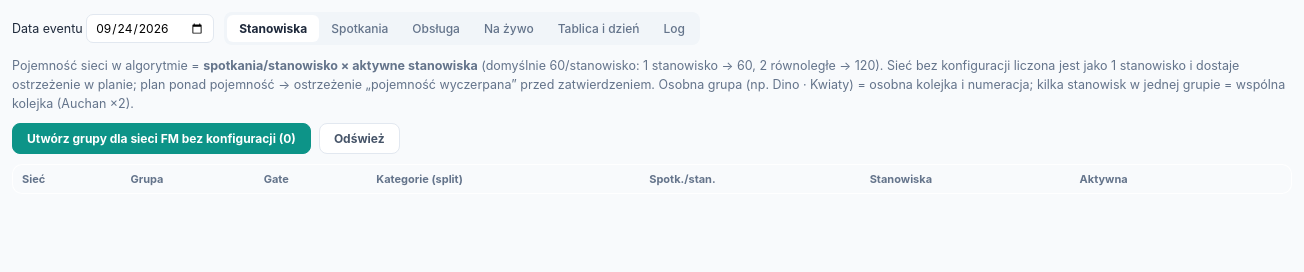
Dzień wydarzenia → Obsługa: konta obsługi › błąd odczytu (PGRST200) jest widoczny, bez „Brak kont”, i da się ponowić
What coordinates should you click on to do the following:
click the button "Obsługa"
I would click on:
 (436, 28)
Its box is [400,15,472,42].
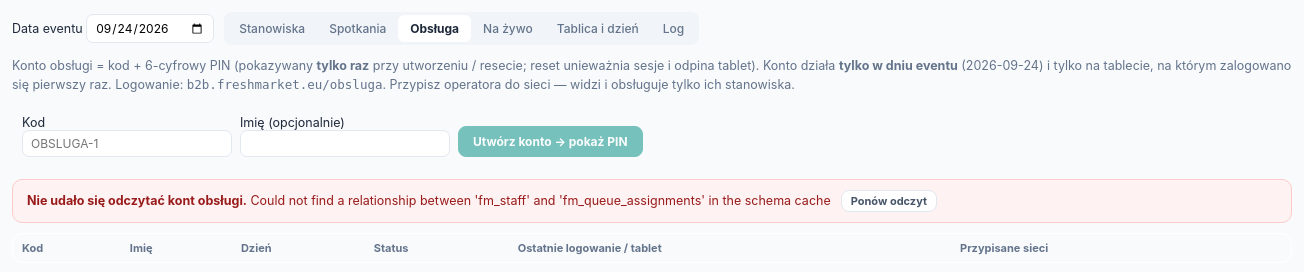
What coordinates should you click on to do the following:
click the button "Ponów odczyt"
I would click on:
 (889, 200)
Its box is [841,190,937,212].
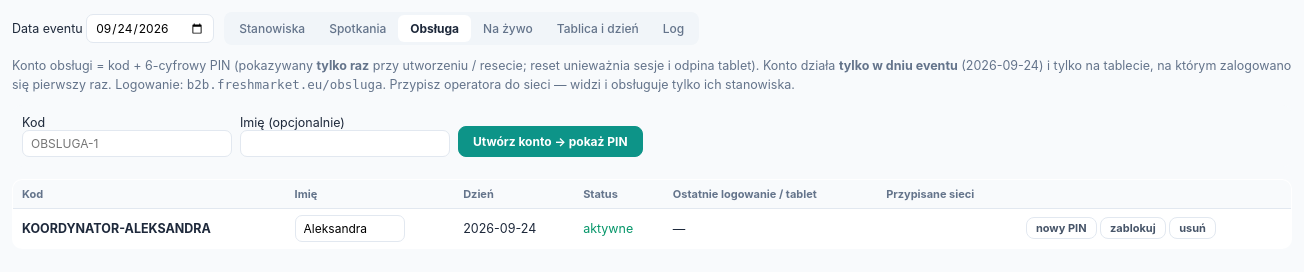
Check: the button "nowy PIN" is enabled, box [1026,217,1096,239]
